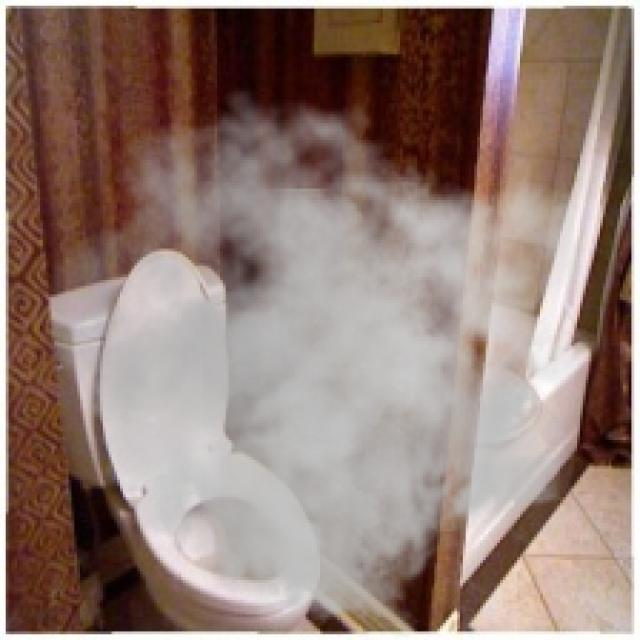smoke: (46, 86, 577, 637)
